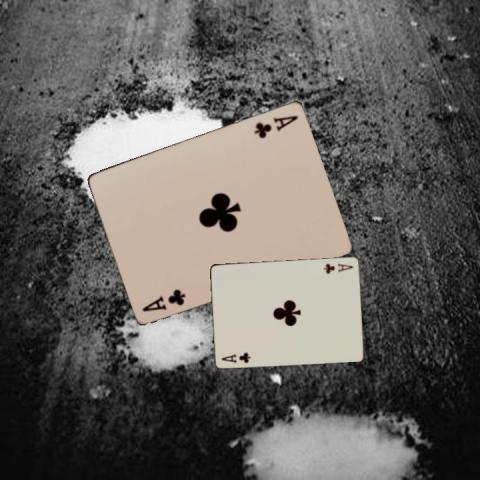Ac: (252, 112, 300, 139), (140, 286, 188, 313), (320, 260, 354, 274), (219, 350, 252, 364)
